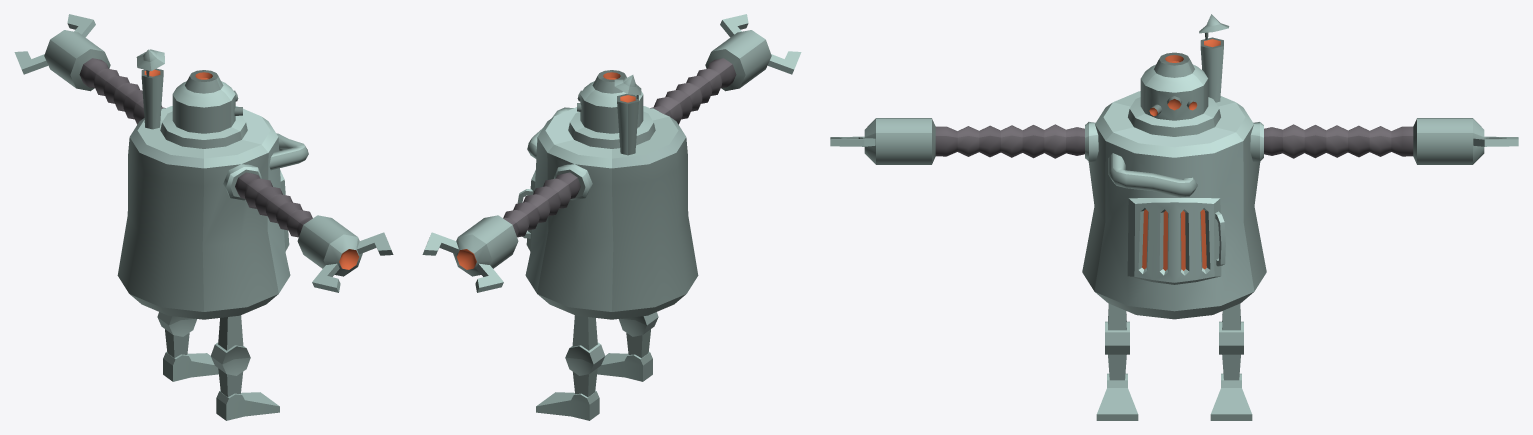
The model's file is Boss_10_steambot.fbx.
The picture shows the model from 3 angles, left to right: view 1: azimuth 30°, elevation 25°; view 2: azimuth 150°, elevation 25°; view 3: azimuth 270°, elevation 25°; orthographic projection. The views are drawn at different scales.
Parts seen in each view (by area): view 1: Boss_10_steambot; view 2: Boss_10_steambot; view 3: Boss_10_steambot.
Boxes of the visible parts, <box> form: Boss_10_steambot: <box>14,14,393,420</box>; Boss_10_steambot: <box>422,14,801,420</box>; Boss_10_steambot: <box>830,14,1518,420</box>.
Bounding box in the file's own units: 0.0439 × 0.0924 × 0.1575.
